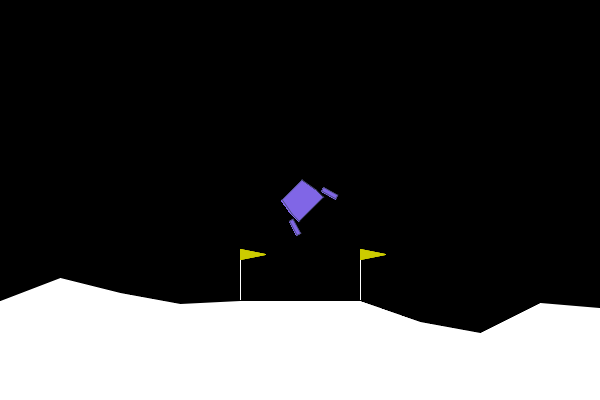lander: (269, 168, 340, 238)
